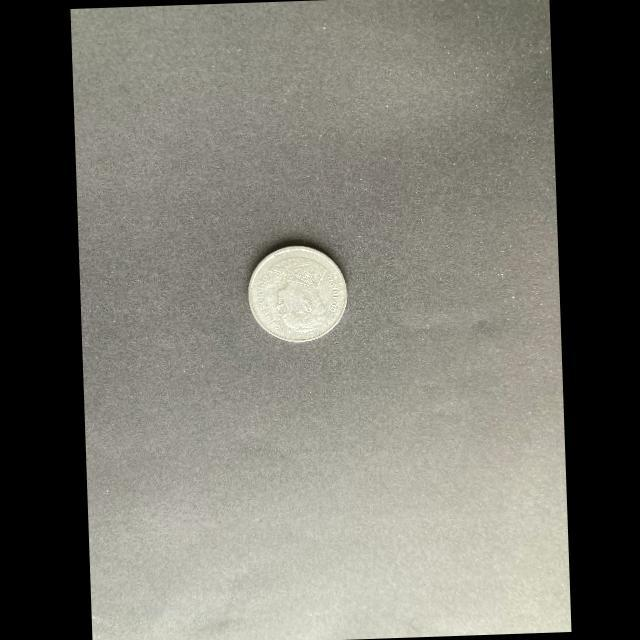1 Bath: (246, 242, 354, 348)
